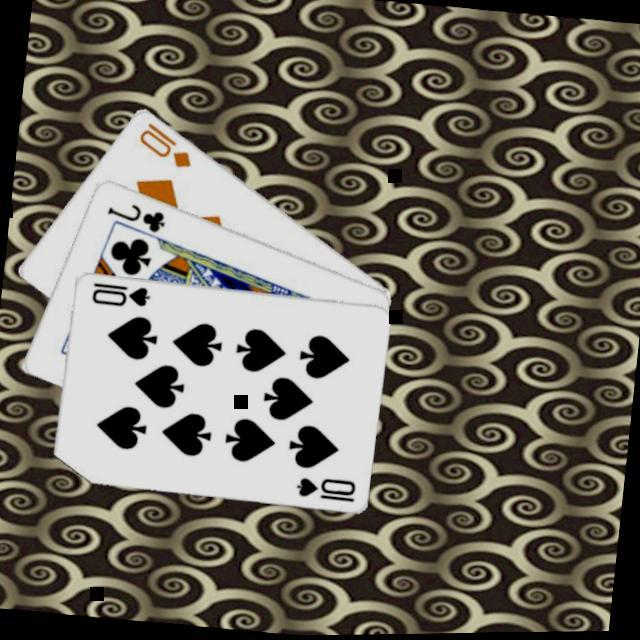10D: (134, 118, 199, 173)
10S: (292, 471, 360, 507), (89, 278, 154, 312)
JC: (102, 198, 170, 239)
